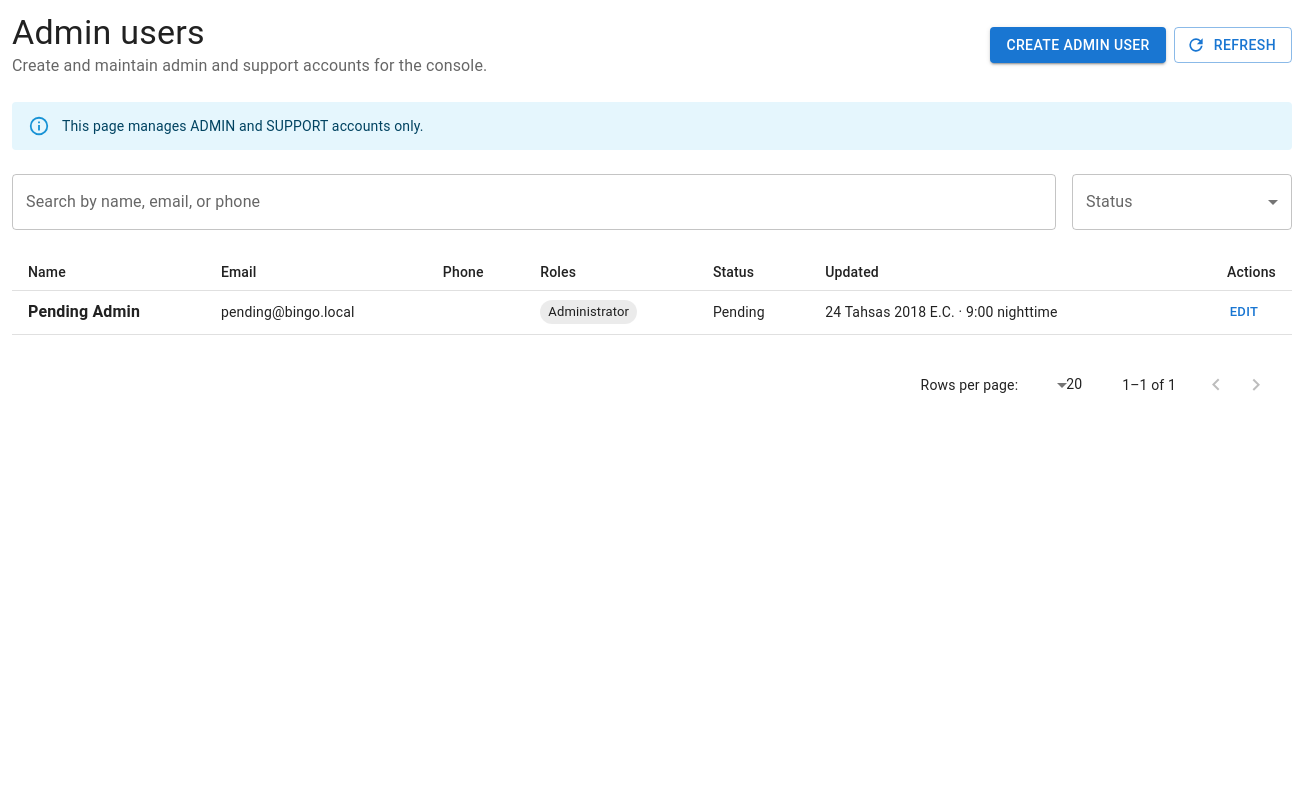
Test: AdminUsersPage › shows activation email activity only for pending accounts
Click the button "Edit" at x=1244, y=312, box 1212,297 -> 1276,328
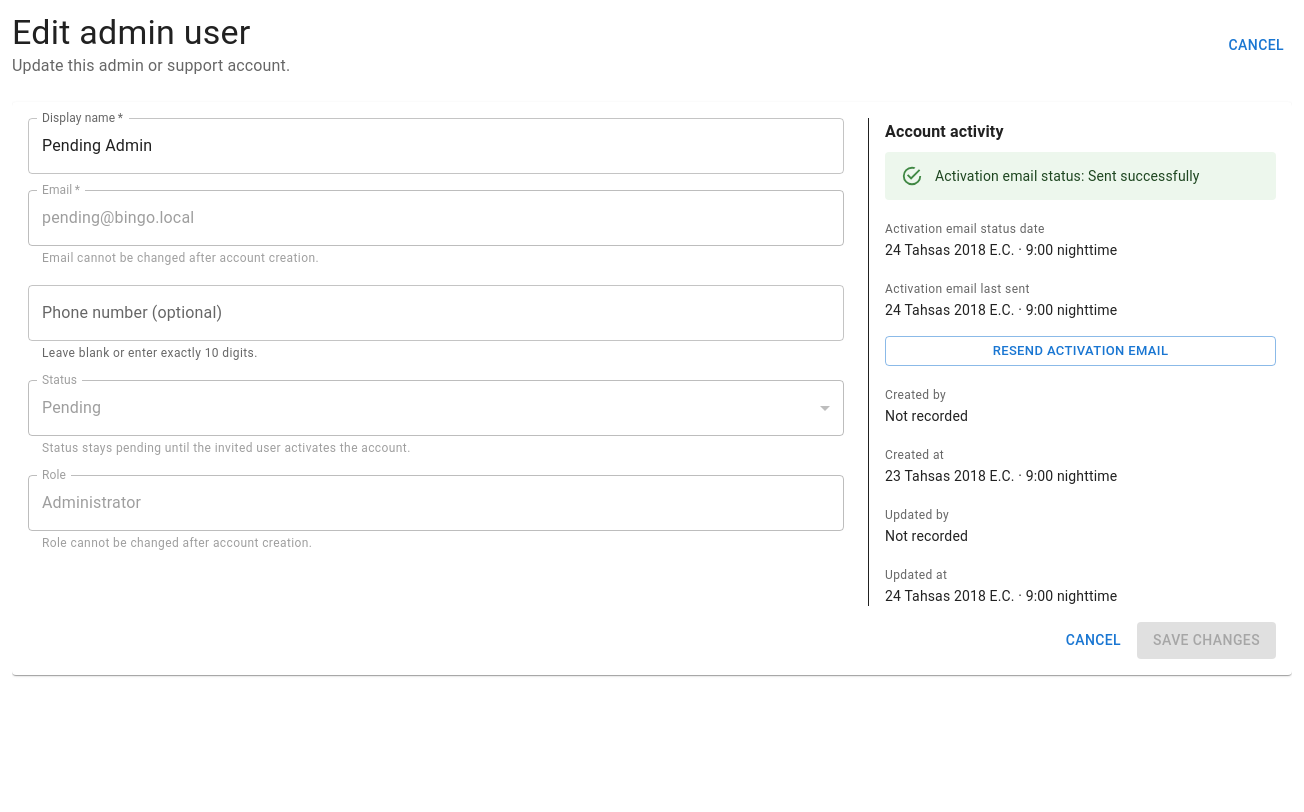
Expected: the text "Activation email status: Sent successfully" is shown, 935,168 -> 1200,184
Expected: the text "Activation email last sent" is shown, 885,282 -> 1030,296
